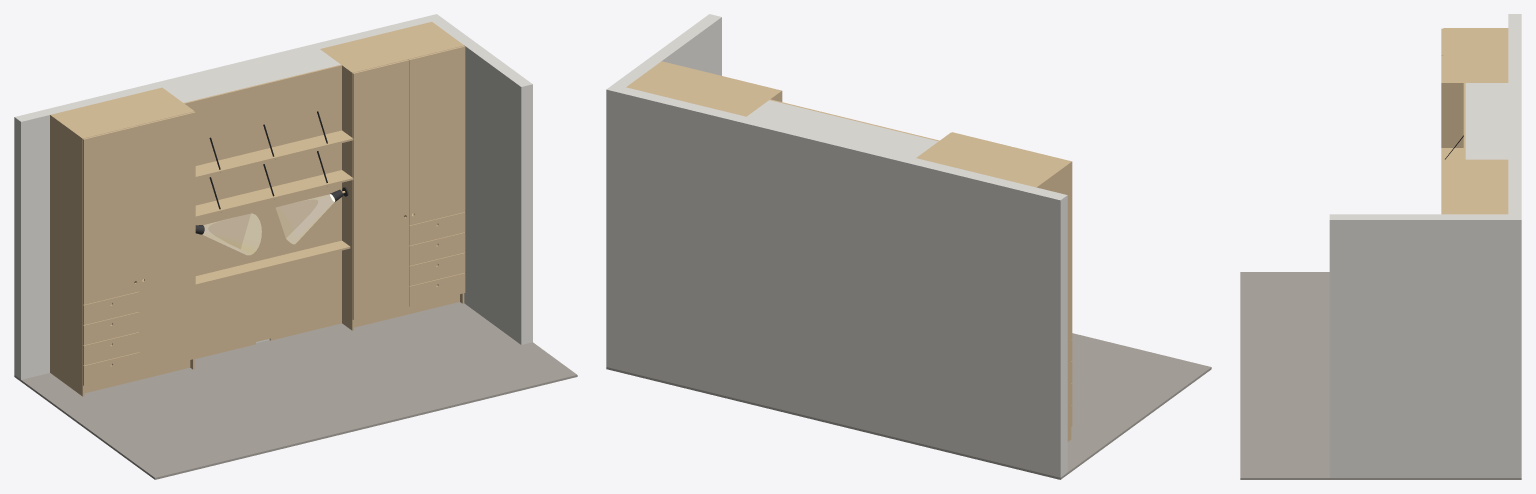
The model's file is two-birch-ply-wardrobes-chiswick-067440d3.glb.
The picture shows the model from 3 angles, left to right: view 1: azimuth 30°, elevation 25°; view 2: azimuth 150°, elevation 25°; view 3: azimuth 270°, elevation 25°; orthographic projection. The views are drawn at different scales.
Visible parts, largest first — view 1: Room: floor, Chimney breast: Facing panel, Room: side wall, Right wardrobe: Door 1 (hinged left), Left wardrobe: Door 2 (hinged right), Room: back wall, Chimney breast: Removable panel, Left wardrobe: Door 1 (hinged left), Right wardrobe: Door 2 (hinged right), Left wardrobe: Side, left, Right wardrobe: Top, Left wardrobe: Top (+17 smaller); view 2: Room: back wall, Room: floor, Room: side wall, Right wardrobe: Top, Left wardrobe: Top, Room: chimney breast, Left wardrobe: Side, left; view 3: Room: side wall, Room: floor, Right wardrobe: Top, Left wardrobe: Top, Room: chimney breast, Room: back wall, Left wardrobe: Side, right.
Part boxes in pixels (x1,y1,x2,y2): Room: floor: (14, 302, 577, 479); Chimney breast: Facing panel: (184, 64, 341, 275); Room: side wall: (425, 14, 532, 344); Right wardrobe: Door 1 (hinged left): (352, 59, 409, 319); Left wardrobe: Door 2 (hinged right): (139, 111, 195, 371); Room: back wall: (14, 17, 431, 379); Chimney breast: Removable panel: (195, 250, 341, 358); Left wardrobe: Door 1 (hinged left): (83, 125, 139, 304); Right wardrobe: Door 2 (hinged right): (408, 46, 465, 225); Left wardrobe: Side, left: (50, 114, 84, 396); Right wardrobe: Top: (322, 22, 462, 72); Left wardrobe: Top: (52, 88, 192, 138); Room: back wall: (618, 87, 1067, 477); Room: floor: (606, 333, 1211, 479); Room: side wall: (606, 14, 721, 369); Right wardrobe: Top: (628, 62, 778, 116); Left wardrobe: Top: (918, 133, 1069, 186); Room: chimney breast: (747, 100, 938, 157); Left wardrobe: Side, left: (1035, 161, 1071, 441); Room: side wall: (1329, 214, 1521, 477); Room: floor: (1240, 272, 1521, 479); Right wardrobe: Top: (1443, 160, 1508, 213); Left wardrobe: Top: (1443, 29, 1508, 81); Room: chimney breast: (1465, 83, 1508, 159); Room: back wall: (1508, 14, 1521, 214); Left wardrobe: Side, right: (1443, 82, 1508, 147).
Size of the model in its own units: 4.37 by 2.57 by 2.52.
